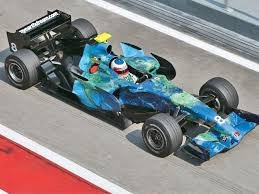FormulaOneCar: (2, 7, 259, 164)
